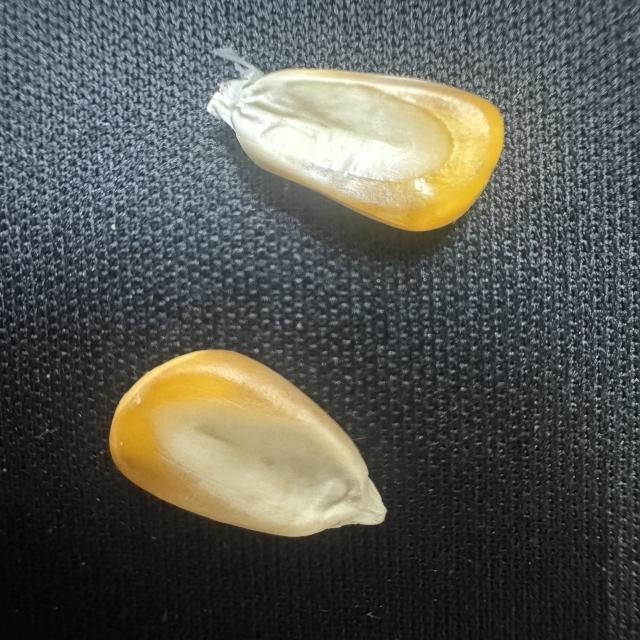Good-Seed: (197, 38, 509, 238), (101, 342, 391, 540)
